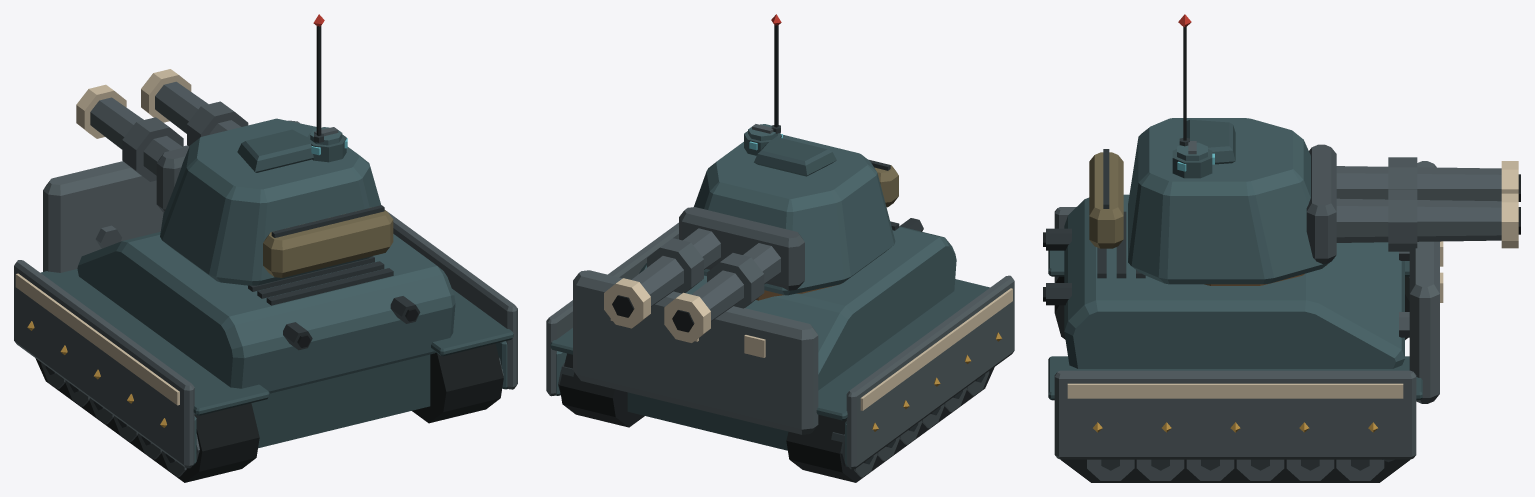
The picture shows the model from 3 angles, left to right: view 1: azimuth 30°, elevation 25°; view 2: azimuth 150°, elevation 25°; view 3: azimuth 270°, elevation 25°; orthographic projection. The views are drawn at different scales.
Visible parts, largest first — view 1: boss_hull_0, boss_turret_0; view 2: boss_hull_0, boss_turret_0; view 3: boss_hull_0, boss_turret_0.
Part boxes in pixels (bbox=[...]): boss_hull_0: bbox=[14, 120, 517, 482]; boss_turret_0: bbox=[76, 14, 393, 285]; boss_hull_0: bbox=[546, 218, 1014, 482]; boss_turret_0: bbox=[604, 14, 898, 342]; boss_hull_0: bbox=[1043, 161, 1443, 482]; boss_turret_0: bbox=[1089, 14, 1520, 285].
Size of the model in its own units: 0.96 by 1.04 by 1.11.
